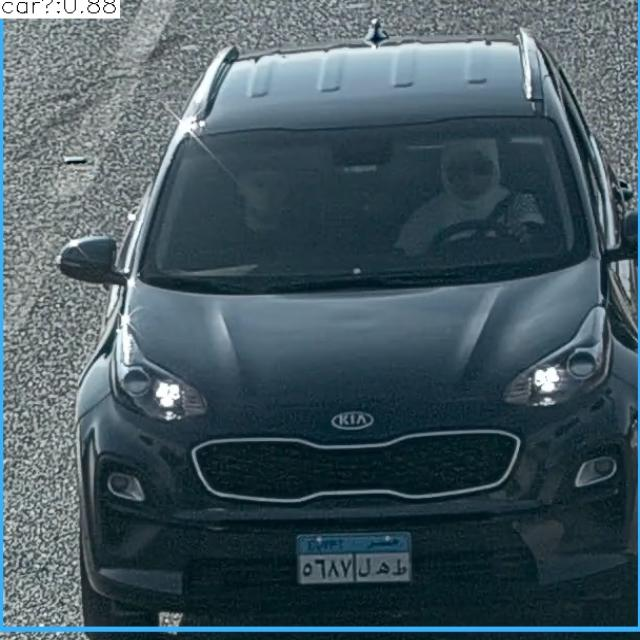windshield: (142, 120, 584, 282)
